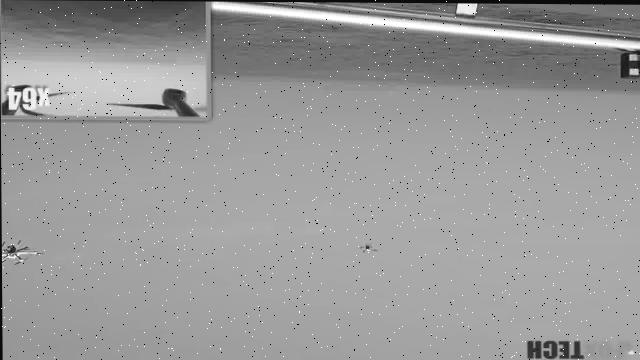drone: (346, 233, 384, 260)
